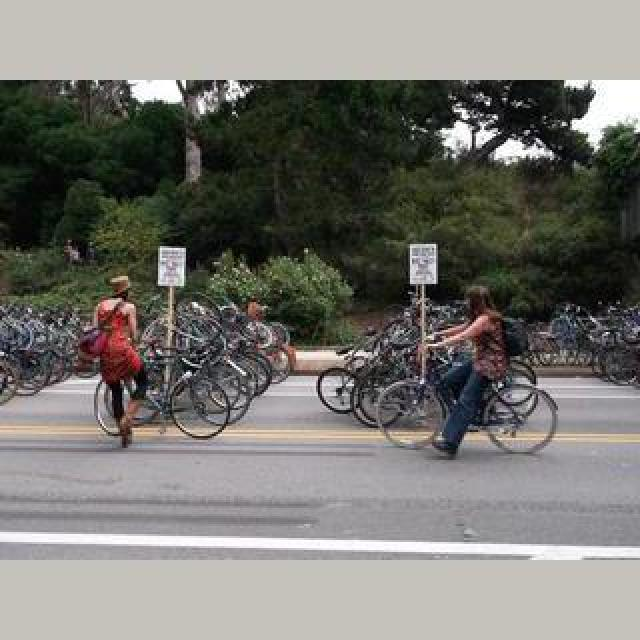MC-Bike: (430, 286, 510, 454), (90, 278, 150, 438)
Person: (376, 348, 560, 458), (90, 346, 232, 446)
